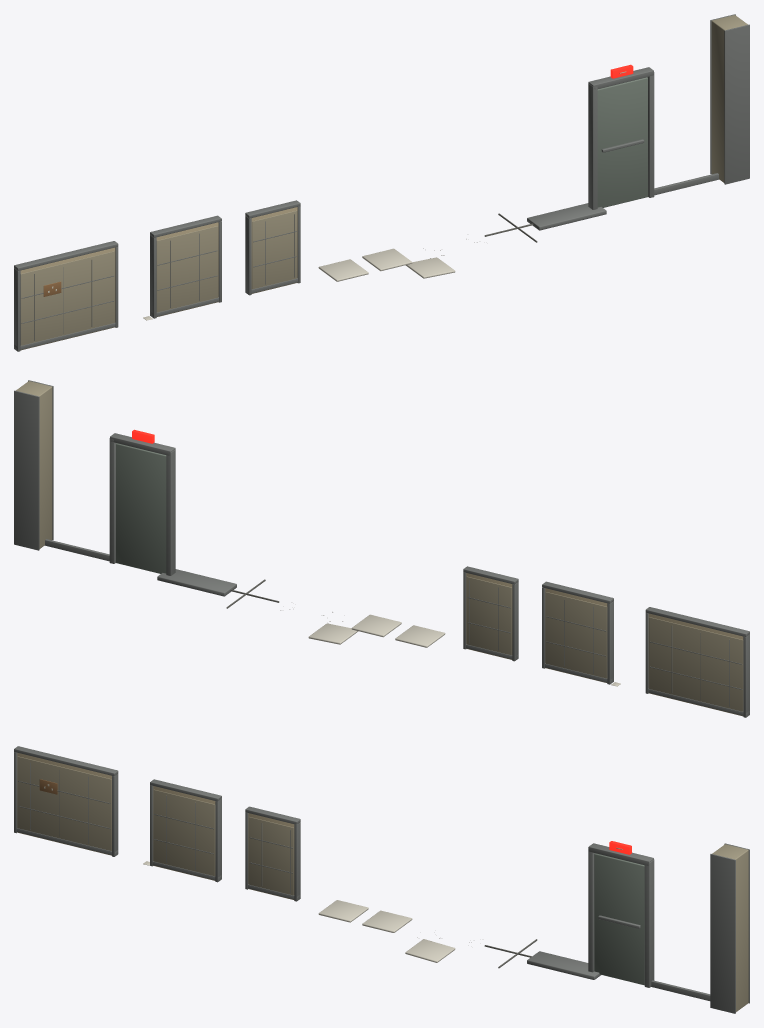
The picture shows the model from 3 angles, top to bottom: view 1: azimuth 30°, elevation 25°; view 2: azimuth 150°, elevation 25°; view 3: azimuth 330°, elevation 25°; orthographic projection.
Parts seen in each view (by area): view 1: panel_face_a, door_leaf, panel_face_a.001, pillar_trim, panel_face_a.002, pillar_core, door_jamb, troffer_housing, door_jamb.001, panel_toprail, tile.001, tile (+5 smaller); view 2: panel_face_b, door_leaf, panel_face_b.001, pillar_trim.001, panel_face_b.002, pillar_core, door_jamb, troffer_housing, door_jamb.001, panel_toprail, tile.001, tile (+5 smaller); view 3: panel_face_a, door_leaf, panel_face_a.001, pillar_trim, panel_face_a.002, pillar_core, door_jamb.001, troffer_housing, door_jamb, panel_toprail, tile.002, tile.001 (+9 smaller).
Boxes of the visible parts, x1,y1,x2,y2 form: panel_face_a: (20,251,114,345); door_leaf: (597,77,647,207); panel_face_a.001: (156,226,218,312); pillar_trim: (724,24,749,184); panel_face_a.002: (252,210,297,289); pillar_core: (711,15,747,182); door_jamb: (588,83,597,209); troffer_housing: (527,203,606,230); door_jamb.001: (647,72,654,197); panel_toprail: (14,241,118,270); tile.001: (362,248,412,271); tile: (318,259,368,281); panel_face_b: (649,617,743,711); door_leaf: (116,443,166,573); panel_face_b.001: (545,592,607,678); pillar_trim.001: (14,390,39,550); panel_face_b.002: (466,576,511,655); pillar_core: (16,381,52,548); door_jamb: (166,449,175,575); troffer_housing: (157,569,236,596); door_jamb.001: (109,438,116,563); panel_toprail: (645,607,749,636); tile.001: (351,614,401,637); tile: (395,625,445,647); panel_face_a: (17,756,111,850); door_leaf: (594,853,644,985); panel_face_a.001: (153,789,215,876); pillar_trim: (710,854,735,1013); panel_face_a.002: (249,816,293,895); pillar_core: (712,844,748,1011); door_jamb.001: (644,859,654,987); troffer_housing: (527,951,600,979); door_jamb: (588,848,594,972); panel_toprail: (14,746,118,776); tile.002: (405,939,455,962); tile.001: (362,910,412,932).
Bounding box in the file's own units: 13.35 × 3.06 × 1.21.
